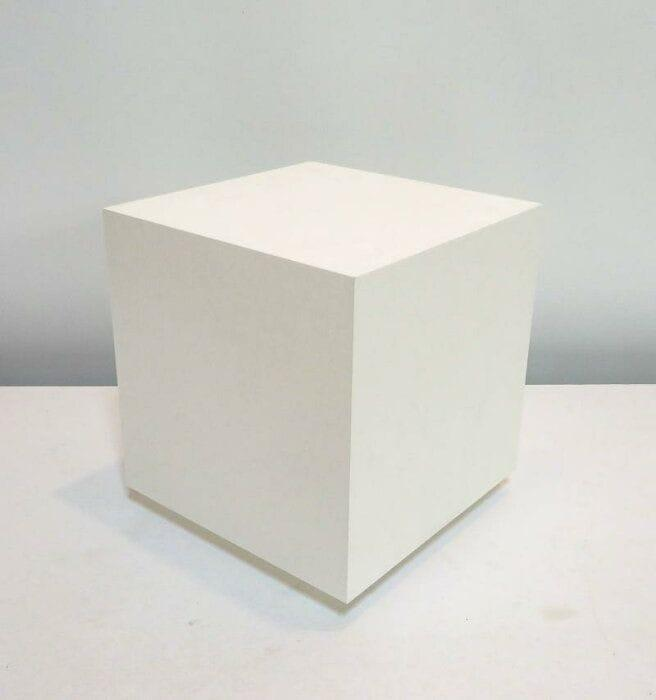cubos: (97, 150, 567, 613)
